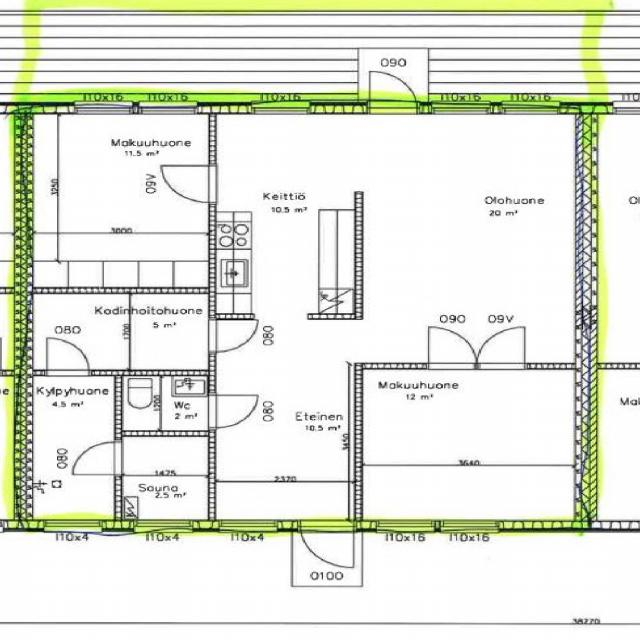door: (300, 519, 354, 575), (369, 66, 417, 114), (159, 166, 217, 204), (428, 325, 476, 368), (477, 325, 525, 368), (207, 396, 258, 428), (73, 443, 124, 475), (47, 338, 88, 377), (207, 322, 255, 351)
